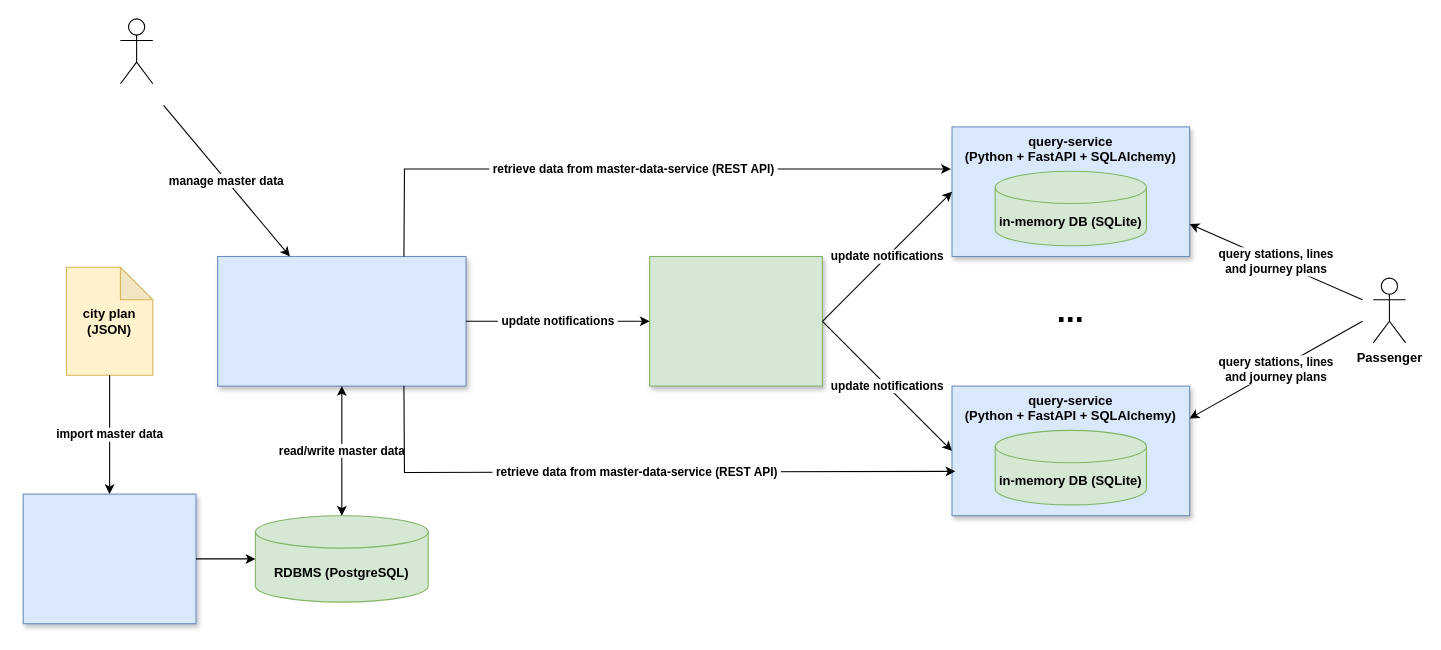
Image size: 1441x650. Some labels were removed from this diagram. Here are the shapes that lost their labels. From the top down, the centre of each, then its label:
At (136,51): "Admin".
At (342,322): "master-data-service (Python + FastAPI + SQLAlchemy)".
At (736,322): "Pub/sub (Redis)".
At (110,560): "data-importer (Python + SQLAlchemy)".
